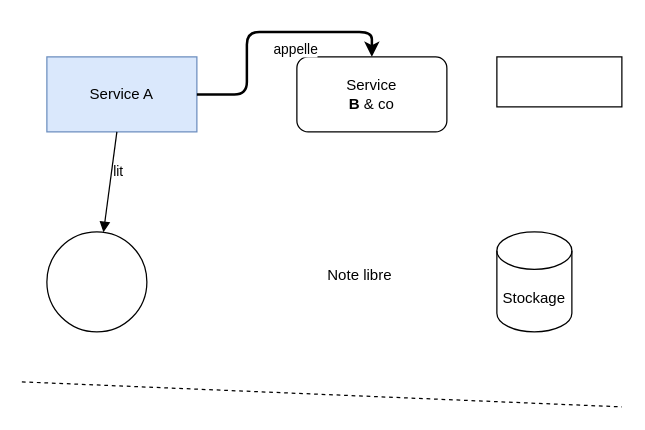
This 645x430 diagram has some shape labels left out. The shapes that lost their labels are listed below. From the top down, each one's centre as x and y in pixels, then its label:
pixel 559 81: Ligne 1 Ligne 2
pixel 96 281: DB
